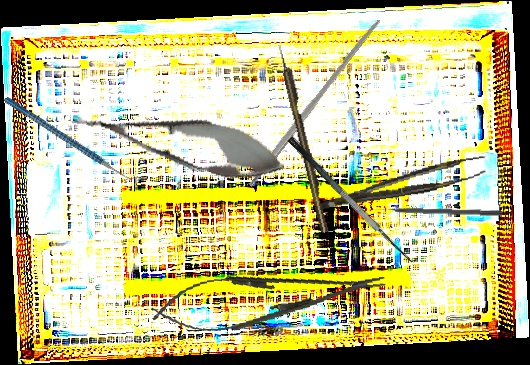Chopper: (3, 61, 142, 215)
Hook Surgical: (276, 43, 330, 234)
Micro Scissor: (66, 92, 291, 191)
Needle Holder: (148, 254, 391, 343)
Pusher: (371, 204, 504, 217)
Scalpel Handle: (245, 16, 383, 189)
Spatula Surgical: (286, 125, 423, 271)
Tissue Forceps: (311, 155, 491, 211)
